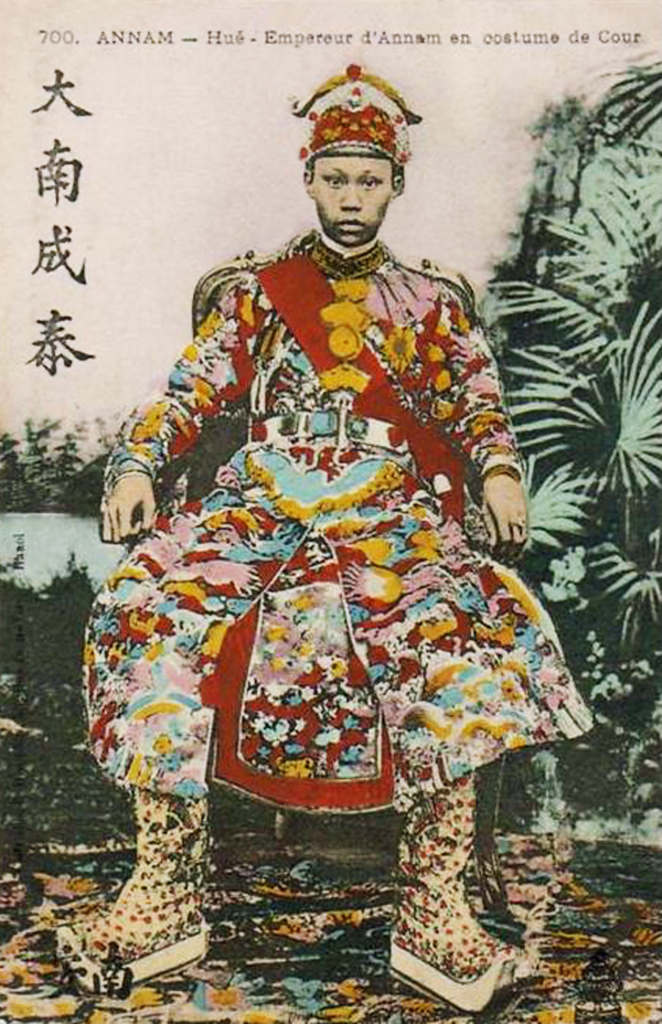Person: (55, 63, 592, 1014)
